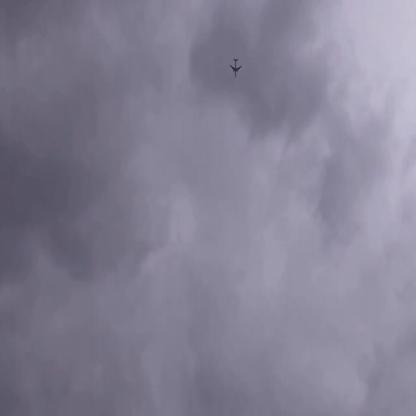CIV_Plane: (230, 58, 244, 78)
